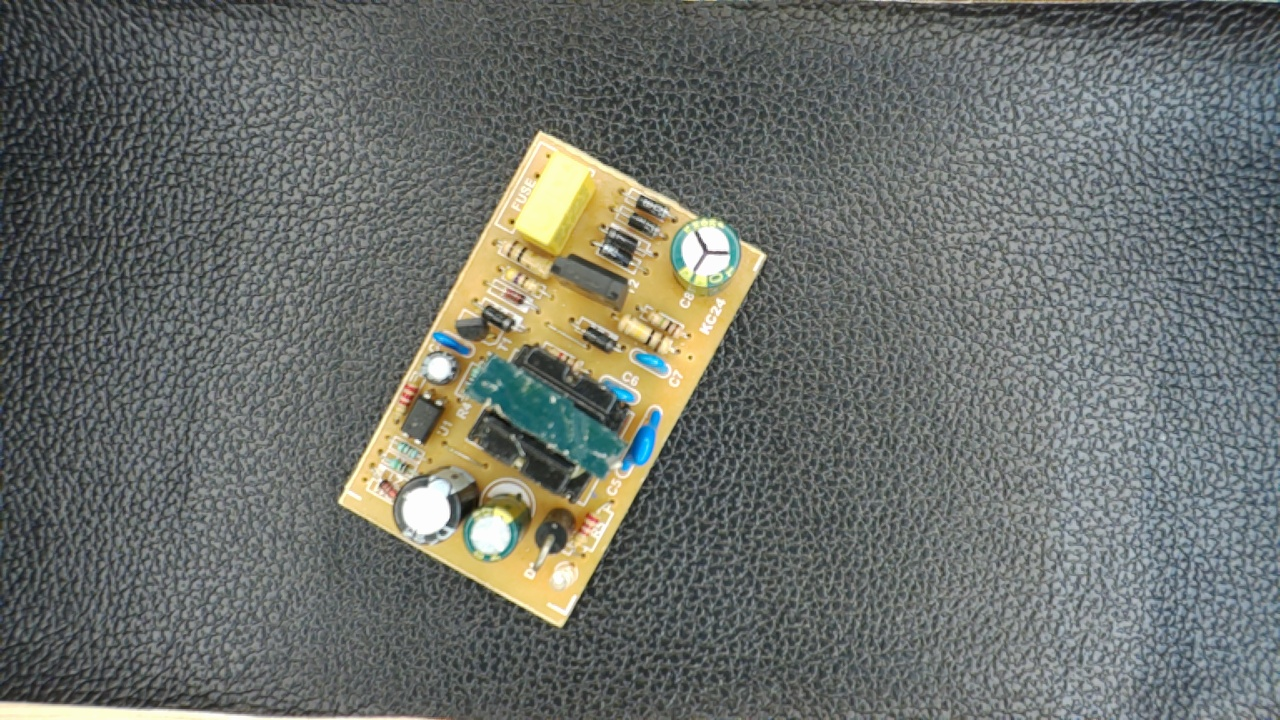hv_capacitor: (666, 216, 743, 294)
mov: (621, 396, 660, 482)
optocoupler: (398, 386, 447, 444)
